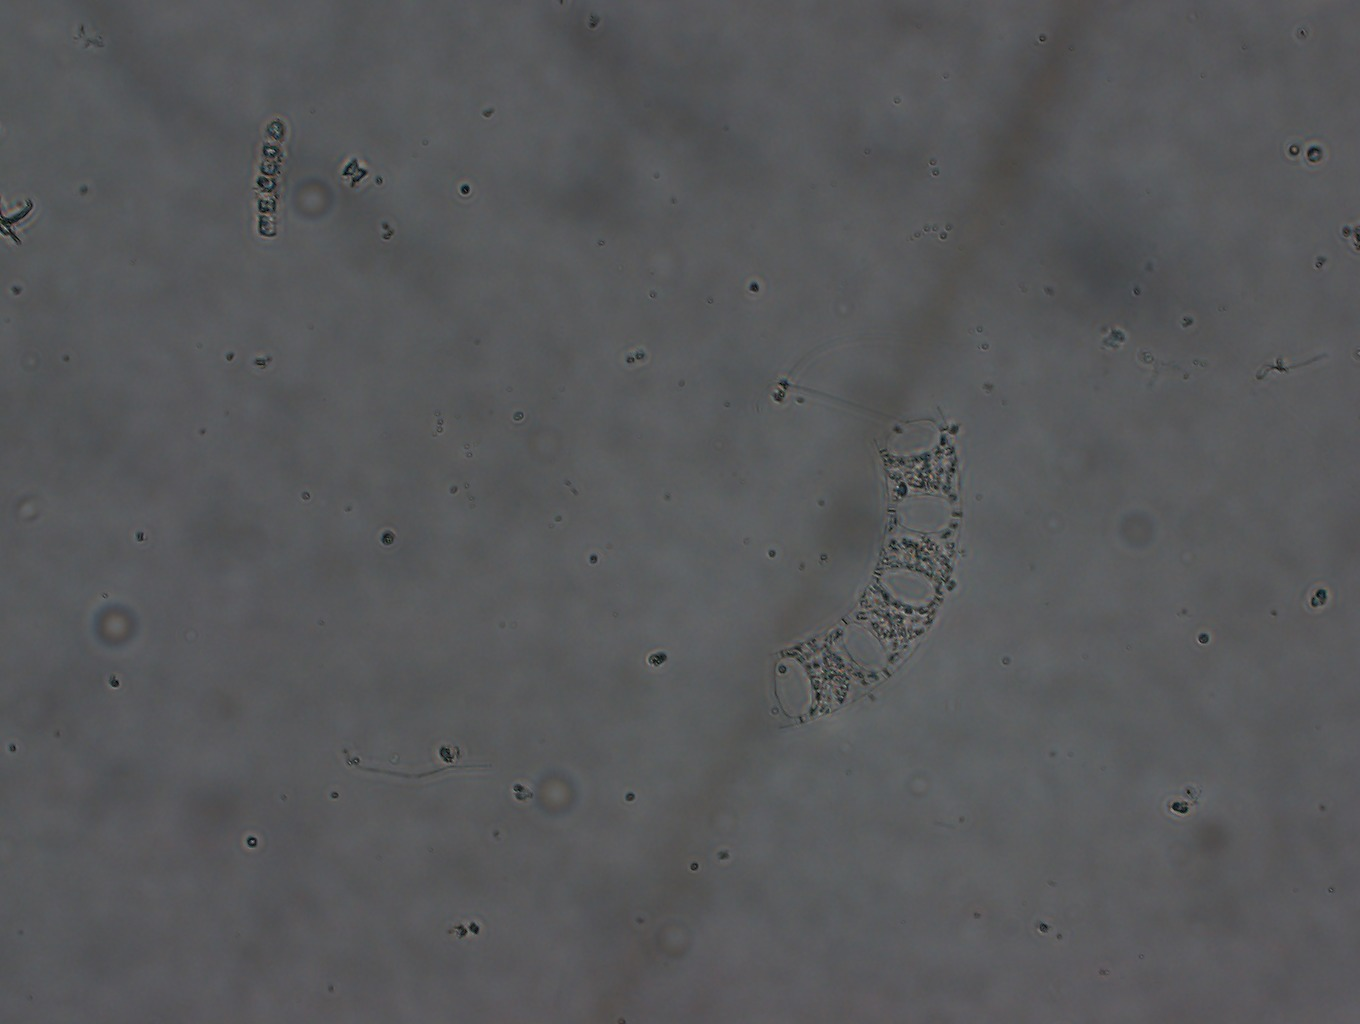eucampia: (756, 394, 965, 731)
skeletonema: (246, 109, 291, 246)
